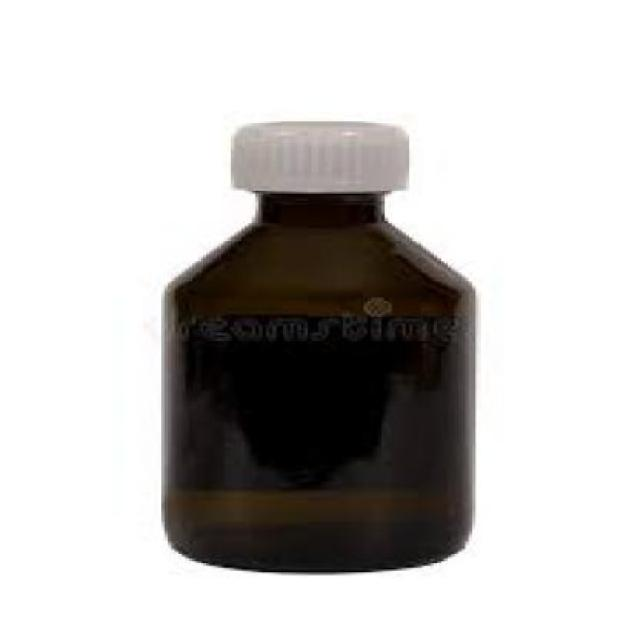kaca: (157, 190, 469, 568)
